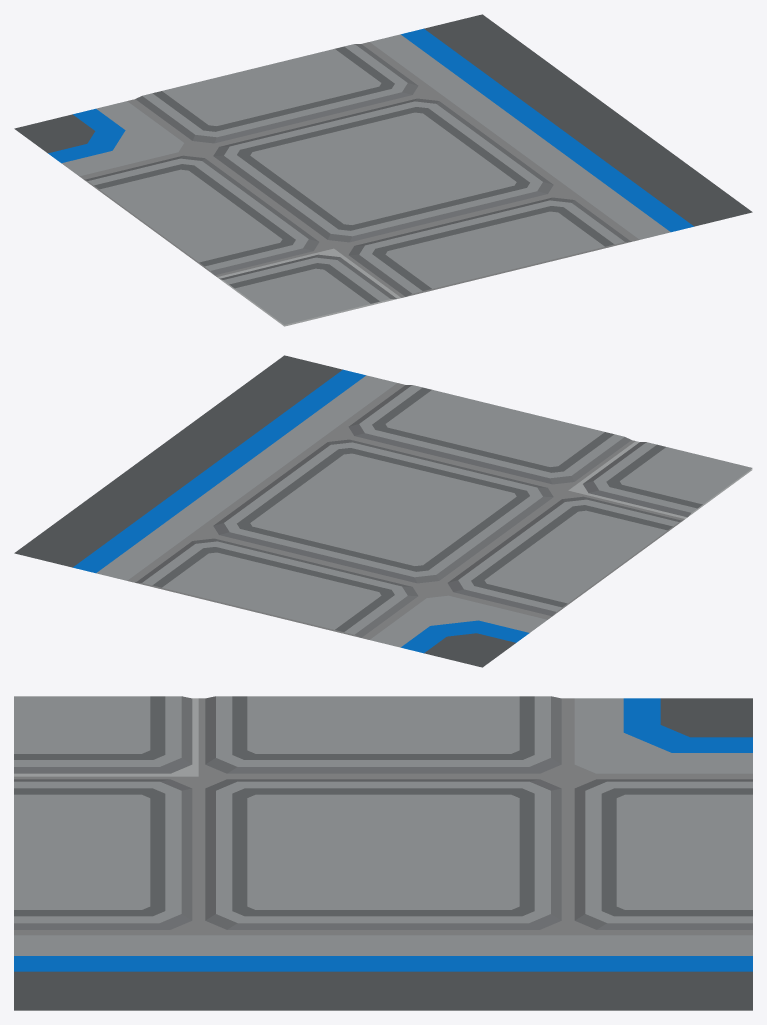
The model's file is Floor_type_B_036.glb.
The picture shows the model from 3 angles, top to bottom: view 1: azimuth 30°, elevation 25°; view 2: azimuth 150°, elevation 25°; view 3: azimuth 270°, elevation 25°; orthographic projection. The views are drawn at different scales.
Parts seen in each view (by area): view 1: Floor_type_B_036; view 2: Floor_type_B_036; view 3: Floor_type_B_036.
Part boxes in pixels (x1,y1,x2,y2): Floor_type_B_036: [14, 14, 752, 326]; Floor_type_B_036: [14, 355, 752, 667]; Floor_type_B_036: [14, 696, 752, 1010].
Size of the model in its own units: 4 by 0.0134 by 4.
2 materials, 2 textured.
